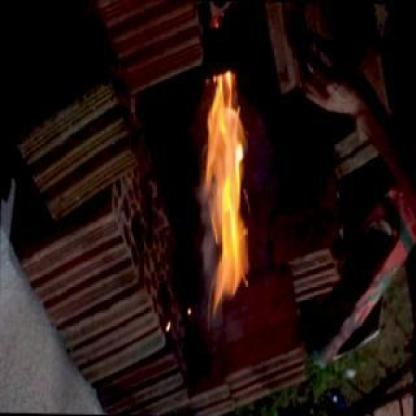Fire: (198, 59, 251, 303)
